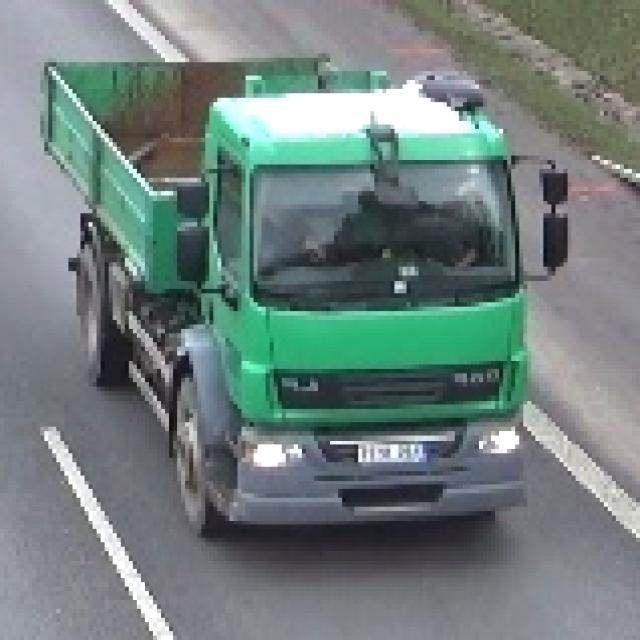truck: (33, 37, 569, 539)
